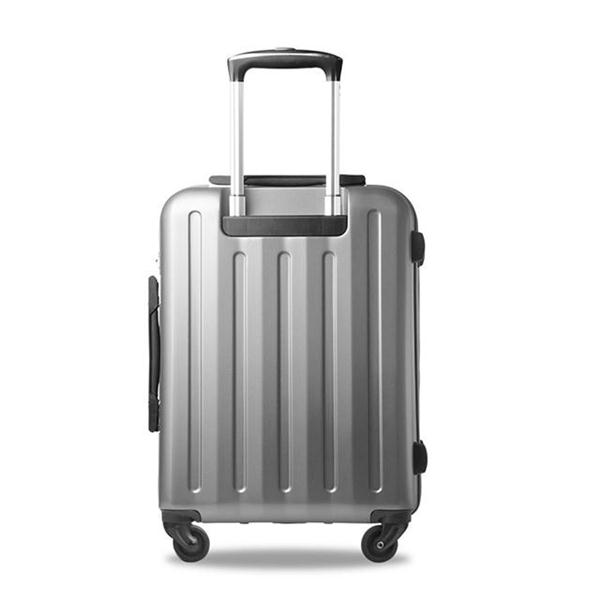luggage: (143, 41, 430, 568)
